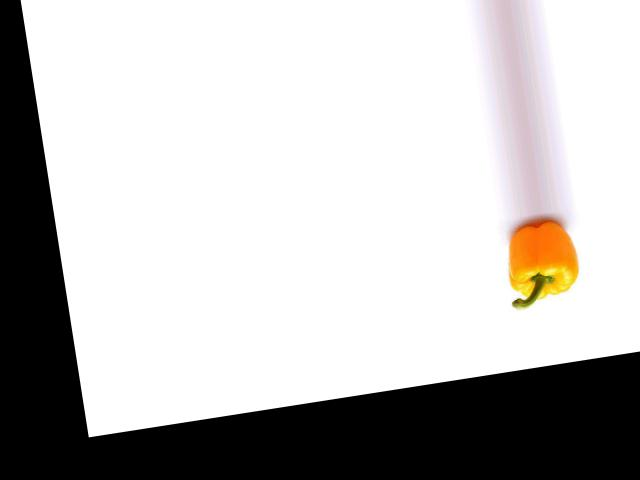bell_pepper: (497, 215, 589, 307)
